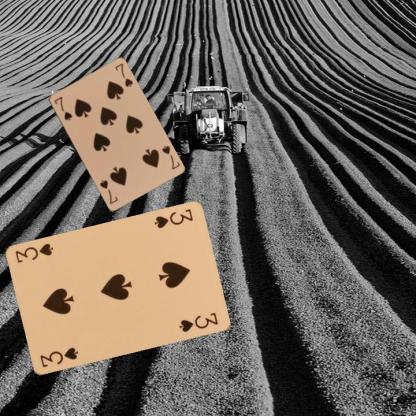3s: (37, 345, 80, 369), (151, 206, 194, 230)
7s: (51, 94, 74, 121), (159, 143, 181, 170)
